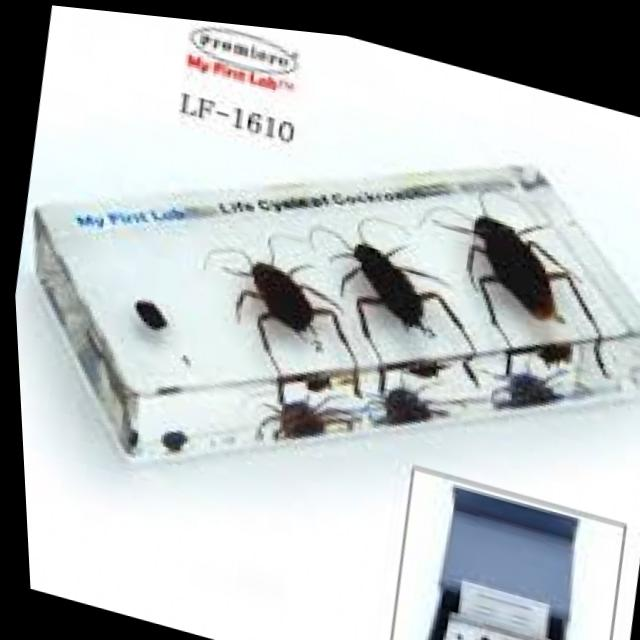Cockroach: (406, 137, 634, 396), (293, 177, 476, 387), (187, 196, 373, 399)
